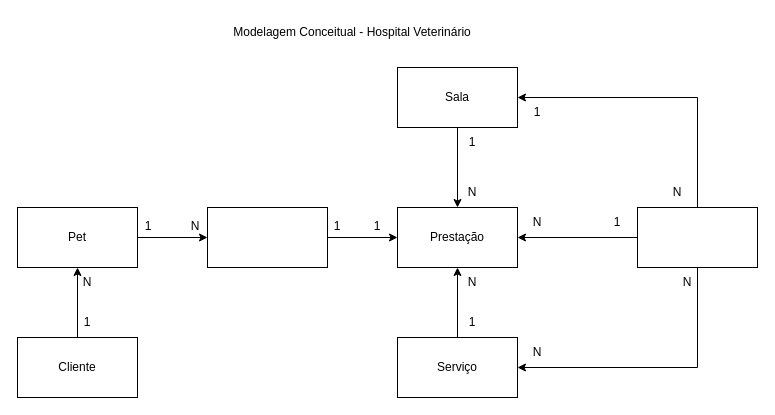
Image size: 775x415. Some labels were removed from this diagram. Here are the shapes that lost their labels. From the top down, the centre of each, then its label:
At pixel 267 237: "Atendimento".
At pixel 697 237: "Veterinário".
